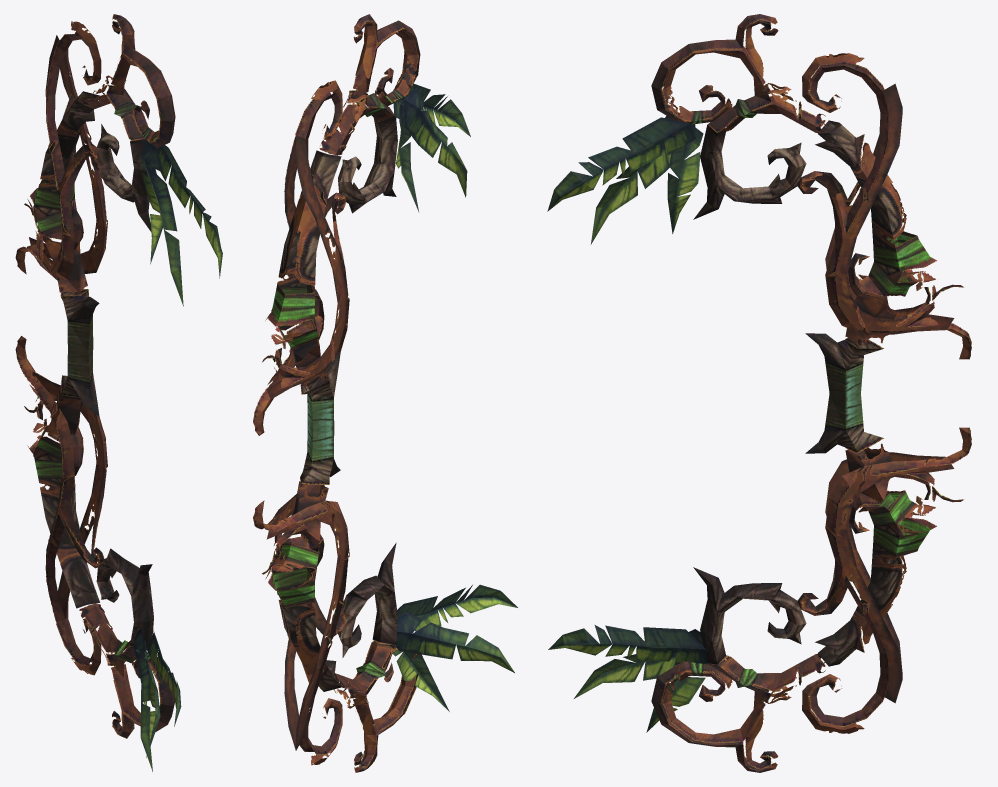
The model's file is bow_1h_430nightelf_c_01_41db000a.glb.
3 views of the same model, side by side, from view 1: azimuth 30°, elevation 25°; view 2: azimuth 150°, elevation 25°; view 3: azimuth 270°, elevation 25° (orthographic). The views are drawn at different scales.
Bounding box in the file's own units: 0.3755 × 3.22 × 1.68.
Materials: 1 (1 with a texture image).
